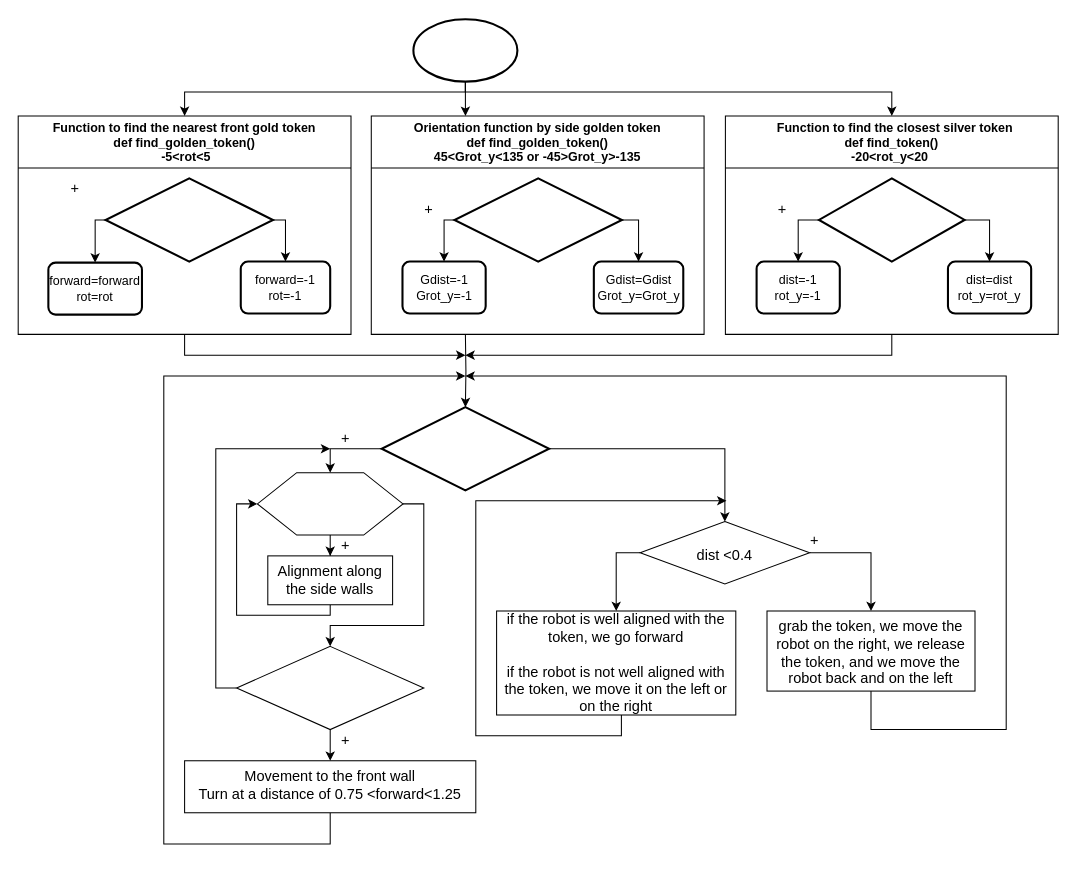
Image size: 1076x870. Some labels were removed from this diagram. The centre of each missing label's shape, as x and y in pixels:
89<Grot_y<91 or -89>Grot_y>-91: the point at 537,219
dist == -1: the point at 465,448
forward<3: the point at 189,219
Grot_y!=-1 and dist==-1: the point at 329,503
if dist>3: the point at 891,219
if Grot_y==-1 and dist==-1: the point at 330,687
